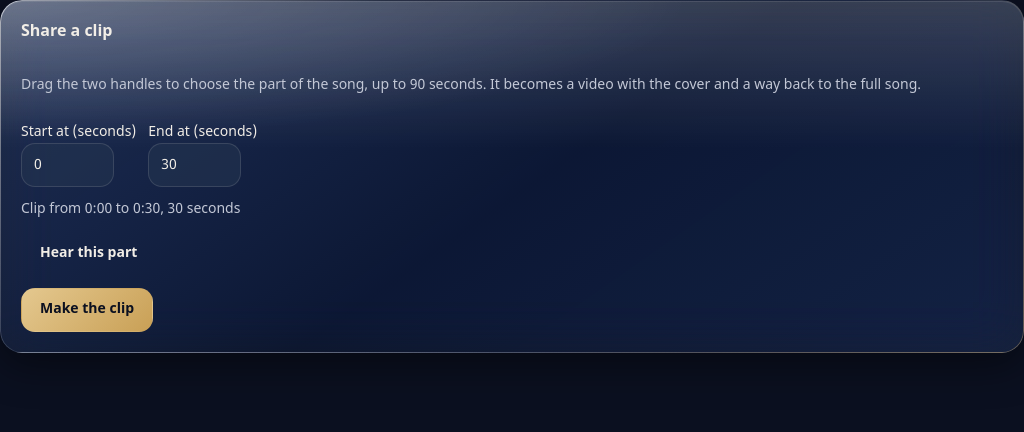
ClipCard › tells the person why when the clip cannot be made
Click the button "Make the clip": (87, 310) [21,288,153,332]
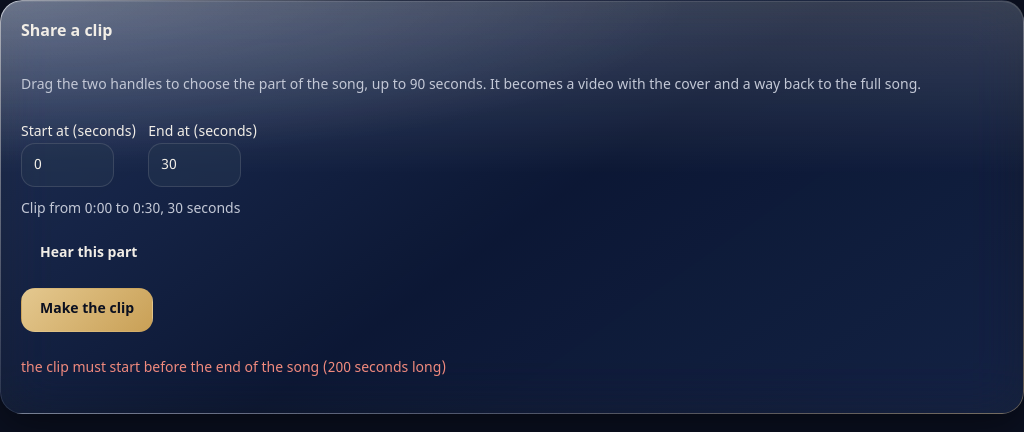
Expected: the message "the clip must start before the end of the song (200 seconds long)" is shown, [21,359,446,378]
